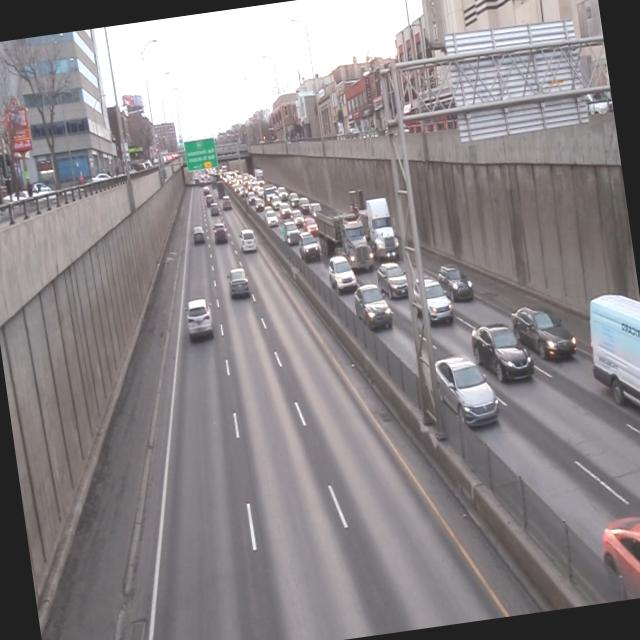Vehicle: (585, 287, 640, 445), (426, 353, 498, 432), (508, 298, 578, 369), (466, 317, 534, 388), (314, 202, 375, 276), (346, 184, 400, 264), (603, 508, 640, 601), (408, 272, 454, 330), (353, 282, 393, 336), (436, 260, 474, 306), (183, 294, 217, 342), (377, 260, 410, 304), (327, 255, 357, 296), (227, 267, 251, 300), (298, 230, 320, 264), (238, 226, 259, 256), (212, 221, 228, 245), (191, 223, 206, 246)
